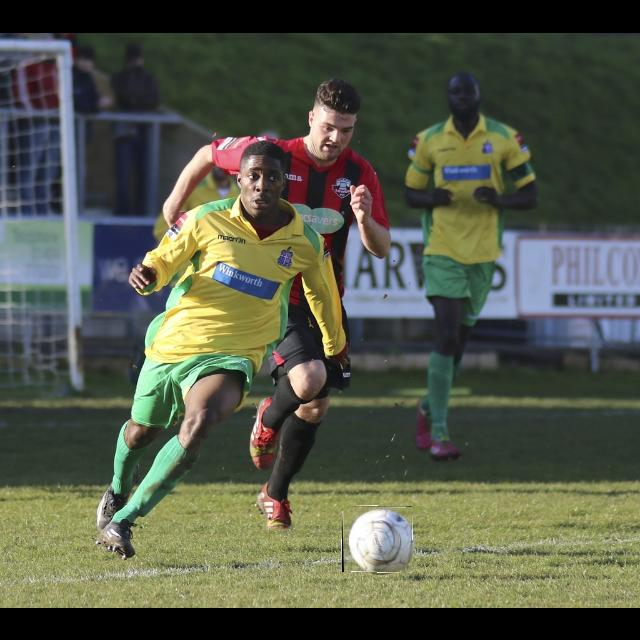Football: (342, 506, 412, 572)
